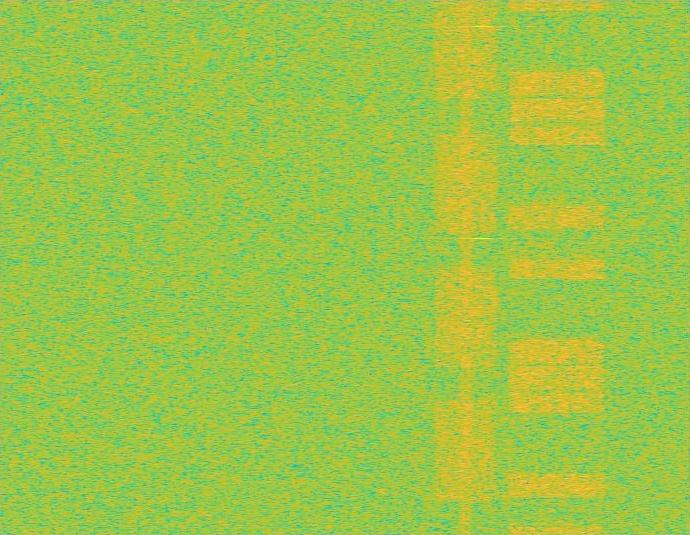5G: (431, 0, 500, 534)
DSSS: (458, 0, 474, 534)
LTE: (505, 0, 609, 534)
Radar: (475, 0, 488, 534)
